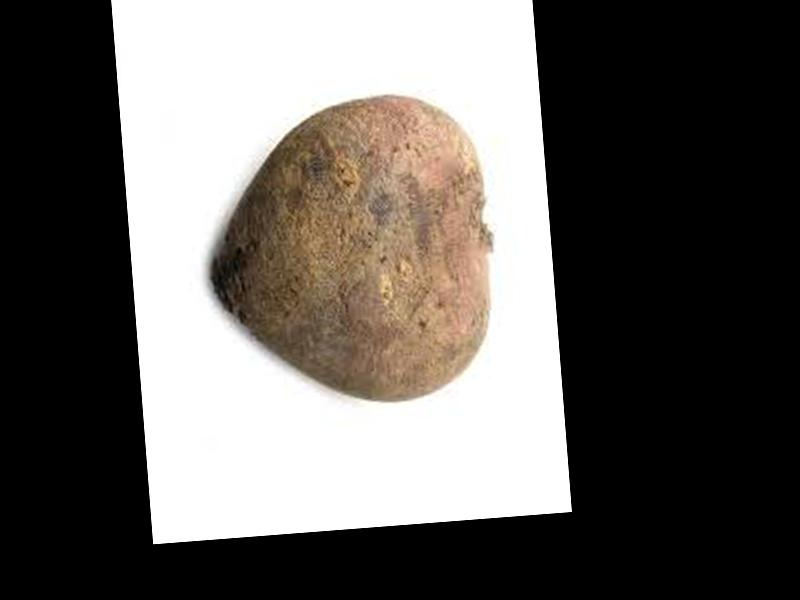Beet: (199, 87, 501, 417)
